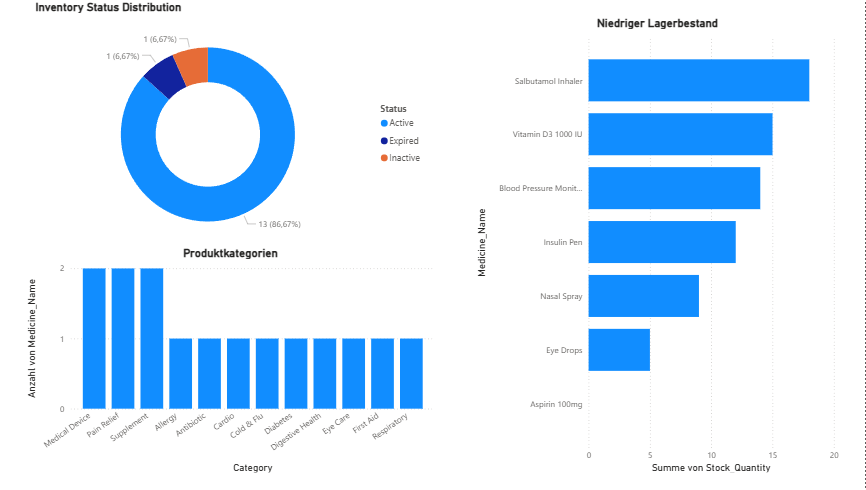

Layout of this report page (visuals, bound fields, positions):
{"tool":"powerbi","page":{"name":"Seite 1","canvas":[1280,720],"ordinal":0},"visuals":[{"type":"donutChart","title":"Inventory Status Distribution","fields":{"Y":["CountNonNull(Pharmacy_Inventory.Medicine_Name)"],"Category":["Pharmacy_Inventory.Status"]},"box":[9.7,0,606,388.1],"z":0},{"type":"clusteredBarChart","title":"Niedriger Lagerbestand","fields":{"Category":["Pharmacy_Inventory.Medicine_Name"],"Y":["Sum(Pharmacy_Inventory.Stock_Quantity)"]},"box":[678.9,0,601.1,719.8],"z":1},{"type":"clusteredColumnChart","title":"Produktkategorien","fields":{"Category":["Pharmacy_Inventory.Category"],"Y":["CountNonNull(Pharmacy_Inventory.Medicine_Name)"]},"box":[9.7,359.9,630.3,359.9],"z":2}]}

Visuals, with their boxes in screenshot pixels (x1, y1, x2, y2), scaled from the page's 1280x720 canvas onto the 866x490 screenshot:
"Inventory Status Distribution" donutChart: [7, 0, 417, 264]
"Niedriger Lagerbestand" clusteredBarChart: [459, 0, 865, 489]
"Produktkategorien" clusteredColumnChart: [7, 245, 433, 489]
